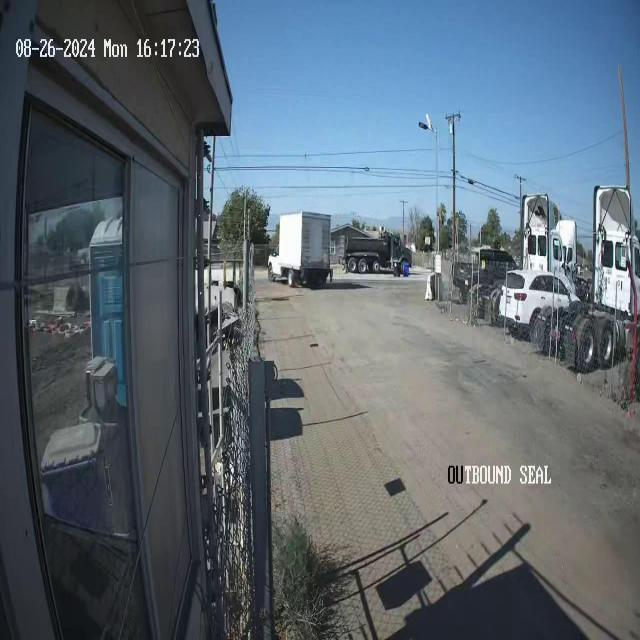TRUCK_OUT: (267, 210, 333, 288)
